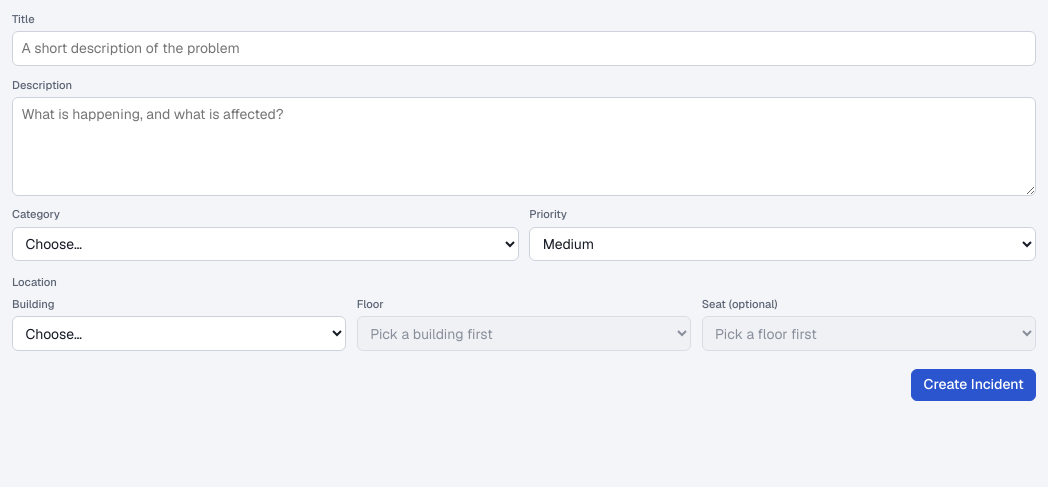
Test case: changing the building clears a floor that belongs to the old one
The width and height of the screenshot is (1048, 487).
Type "Aircon dripping" into the field labelled "Title" at (524, 49), box [12,31,1036,66]
Select "HVAC" in the dropdown labelled "Category" at (265, 244), box [12,227,519,261]
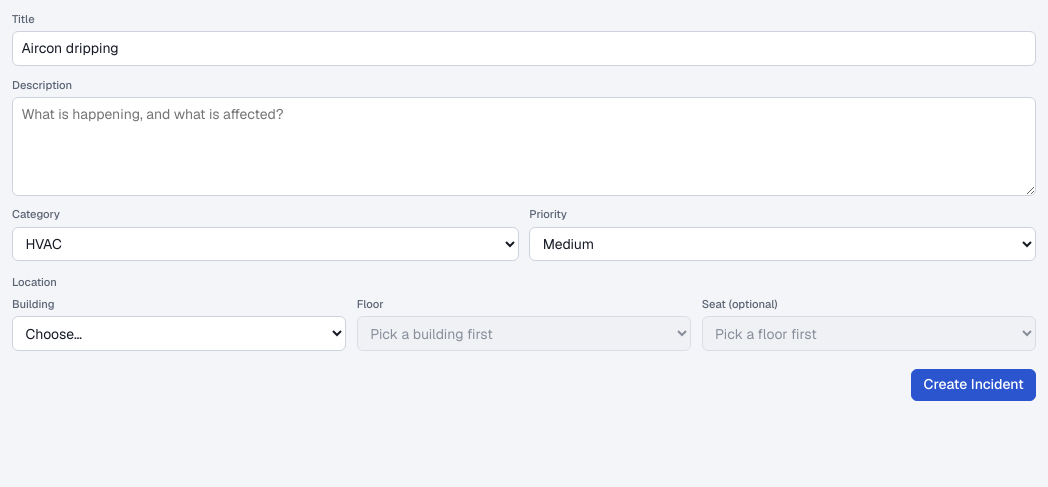
Select "HQ" in the dropdown labelled "Building" at (179, 334), box [12,316,346,351]
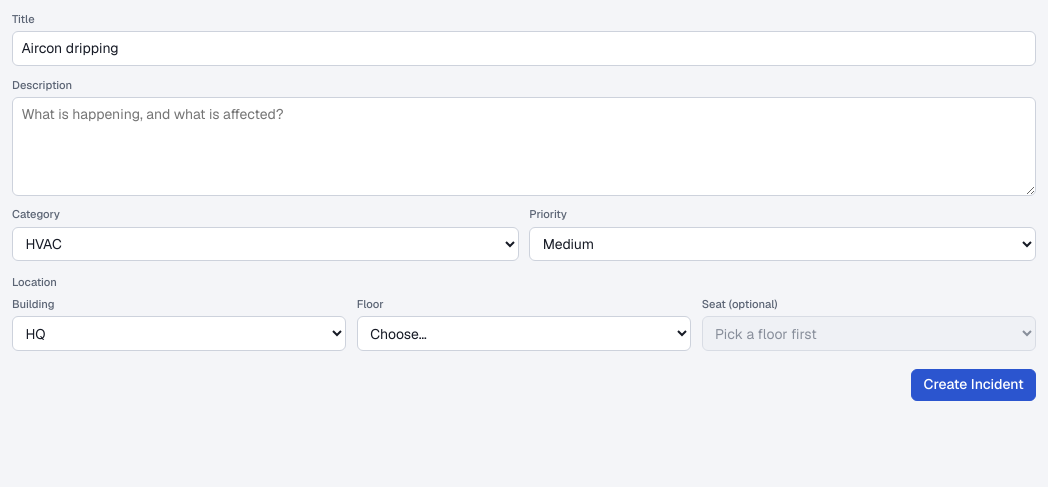
Select "Ground" in the dropdown labelled "Floor" at (524, 334), box [357,316,691,351]
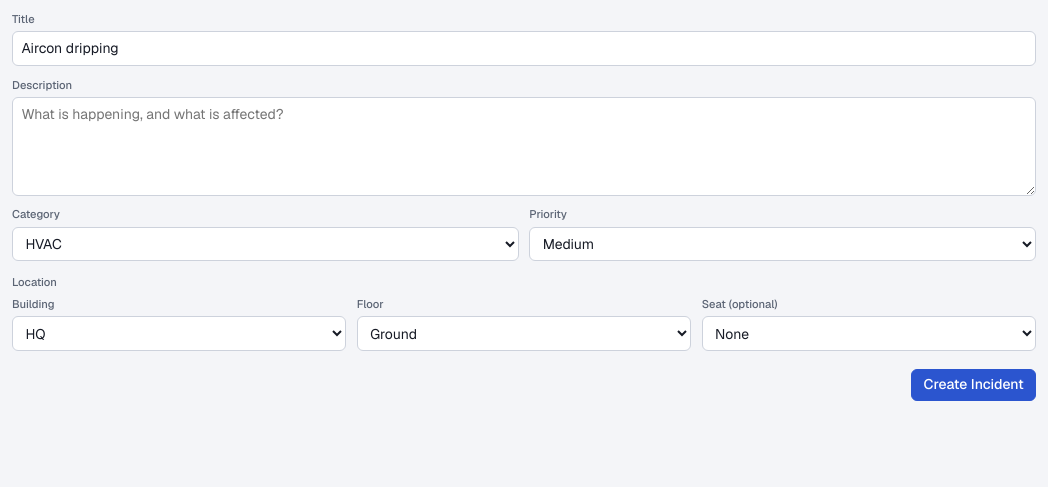
Select "A-1" in the dropdown labelled "Seat (optional)" at (869, 334), box [702,316,1036,351]
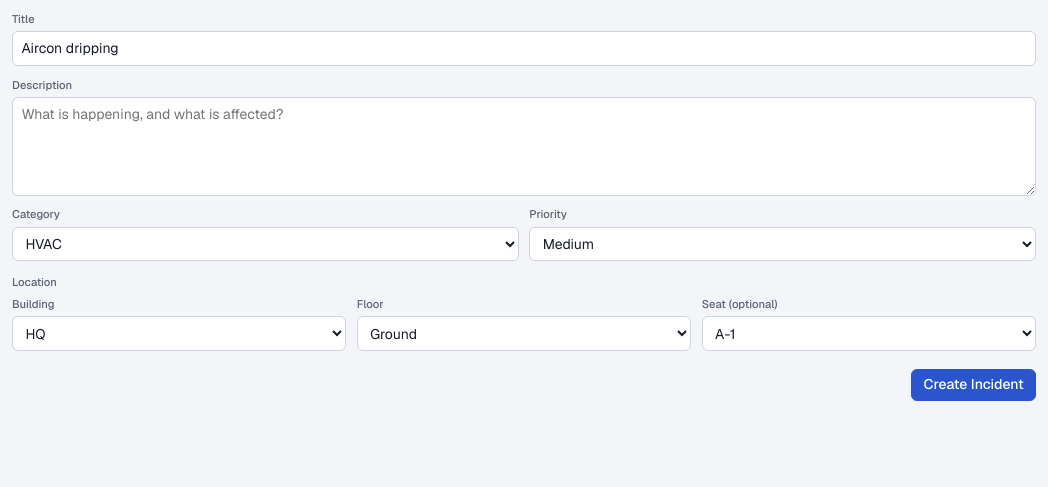
Select "Annex" in the dropdown labelled "Building" at (179, 334), box [12,316,346,351]
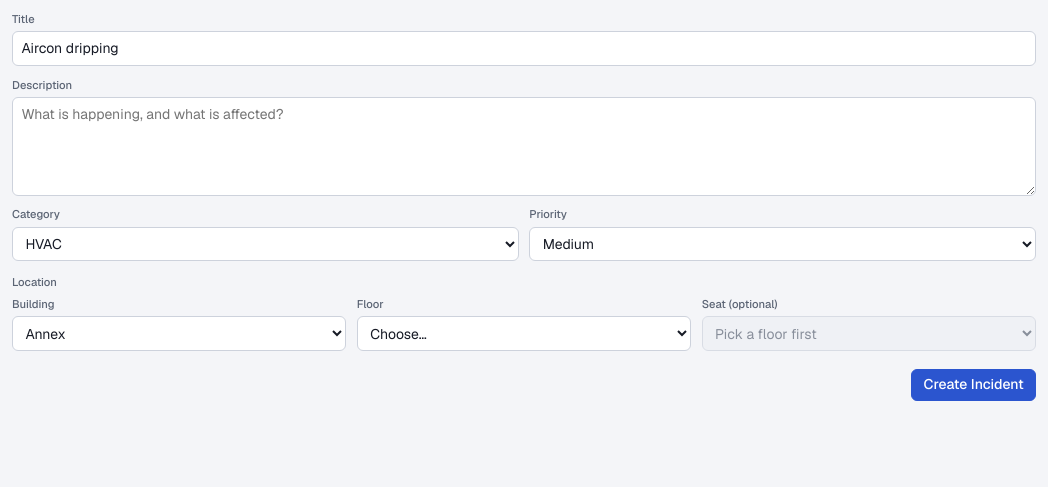
Click the button "Create Incident" at (974, 385), box [911,368,1036,401]
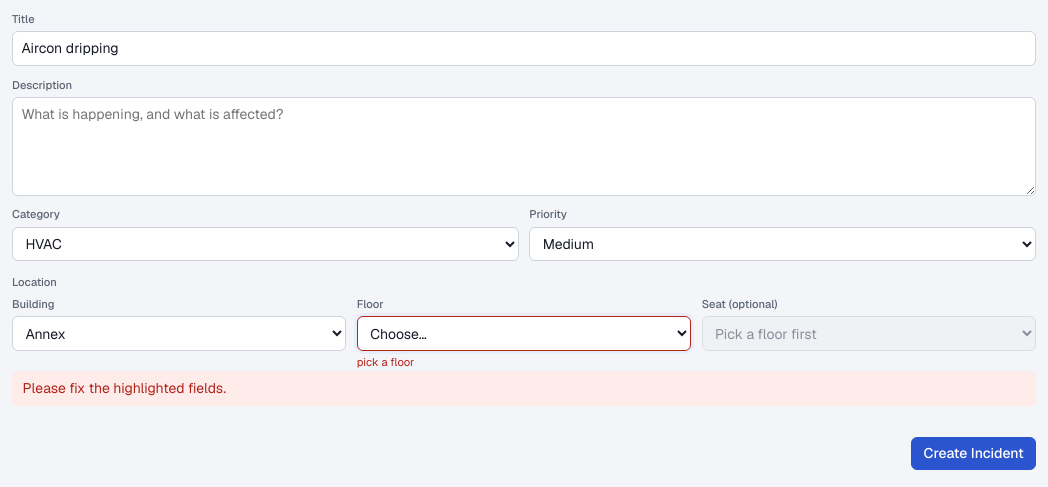
Expected: the text "pick a floor" is shown, [357,355,414,369]
